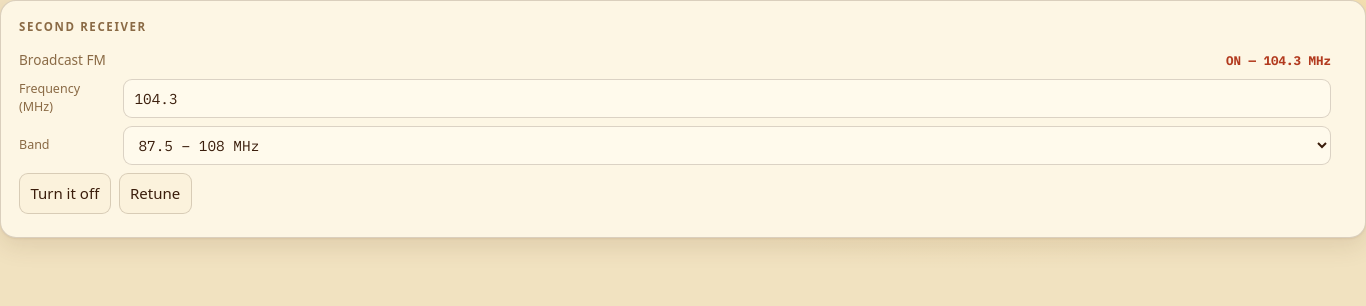
BroadcastFmPanel — retuning without stopping it (#226, #227) › names the frequency the RADIO reports, not the one that was typed
This screenshot has width=1366, height=306.
Replace the text in the number field labelled "Frequency (MHz)" with "98.4" at (727, 98), box [123,79,1331,118]
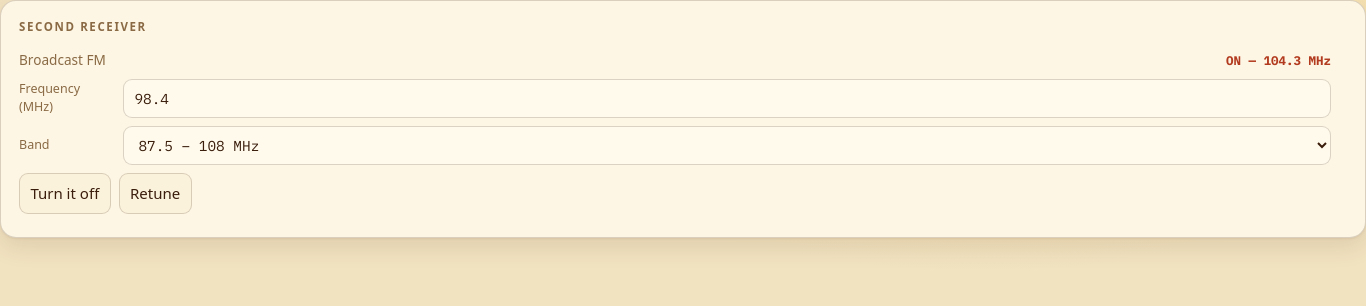
Click the button "Retune".
click(155, 193)  # box [119,173,192,214]
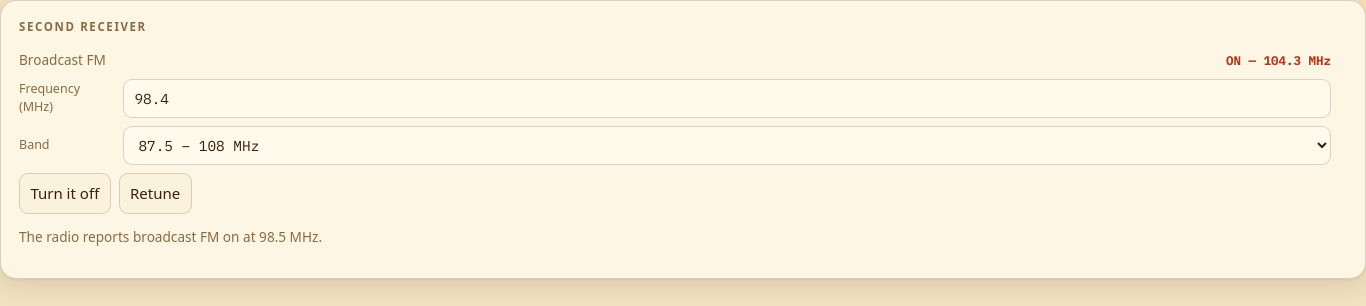
Expected: the message does not show "98.4"
Result: the message shows "98.5 MHz" at [133,227,318,246]
